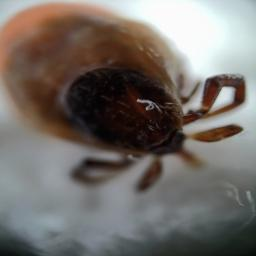Ixodes scapularis: (3, 5, 248, 191)
